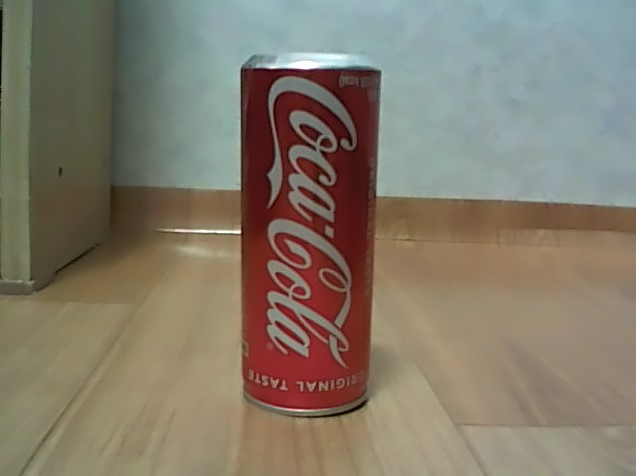Can: (232, 47, 385, 421)
